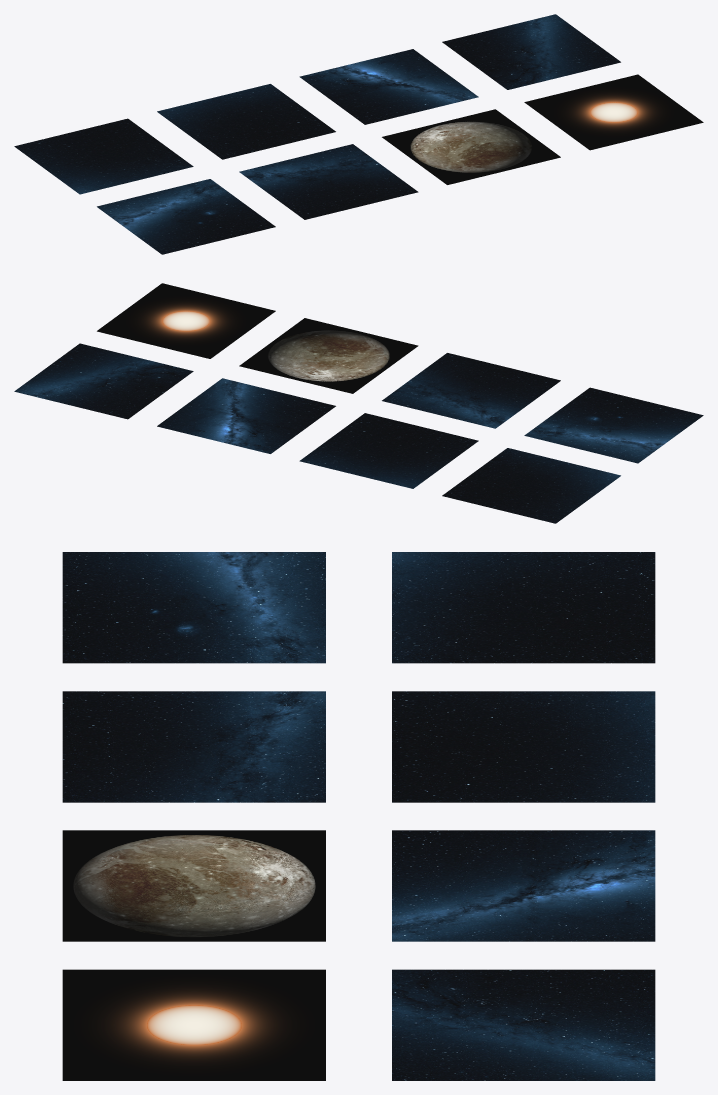
Rendered from sky.glb.
3 renders of one model, top to bottom at view 1: azimuth 30°, elevation 25°; view 2: azimuth 150°, elevation 25°; view 3: azimuth 270°, elevation 25°, orthographic. The views are drawn at different scales.
Parts seen in each view (by area): view 1: N_skyft__Body, N_suntex__Body, N_skylf__Body, N_skydn__Body, N_skybk__Body, N_moontex__Body, N_skyrt__Body, N_skyup__Body; view 2: N_skyrt__Body, N_skyup__Body, N_skybk__Body, N_moontex__Body, N_skylf__Body, N_skydn__Body, N_skyft__Body, N_suntex__Body; view 3: N_skybk__Body, N_skylf__Body, N_skydn__Body, N_moontex__Body, N_skyft__Body, N_skyrt__Body, N_skyup__Body, N_suntex__Body.
Part boxes in pixels (x1,y1,x2,y2): N_skyft__Body: [14, 118, 193, 194]; N_suntex__Body: [524, 74, 703, 150]; N_skylf__Body: [299, 49, 478, 124]; N_skydn__Body: [239, 144, 418, 219]; N_skybk__Body: [157, 84, 335, 159]; N_moontex__Body: [382, 109, 560, 184]; N_skyrt__Body: [442, 14, 620, 89]; N_skyup__Body: [97, 179, 275, 254]; N_skyrt__Body: [14, 343, 193, 419]; N_skyup__Body: [524, 387, 703, 463]; N_skybk__Body: [299, 413, 478, 488]; N_moontex__Body: [239, 318, 418, 393]; N_skylf__Body: [157, 378, 335, 453]; N_skydn__Body: [382, 353, 560, 428]; N_skyft__Body: [442, 448, 620, 523]; N_suntex__Body: [97, 283, 275, 358]; N_skybk__Body: [392, 691, 655, 802]; N_skylf__Body: [392, 830, 655, 941]; N_skydn__Body: [62, 691, 325, 802]; N_moontex__Body: [62, 830, 325, 941]; N_skyft__Body: [392, 552, 655, 663]; N_skyrt__Body: [392, 969, 655, 1080]; N_skyup__Body: [62, 552, 325, 663]; N_suntex__Body: [62, 969, 325, 1080].
Size of the model in its own units: 190 by 0 by 90.
Materials: 8 (8 with a texture image).
